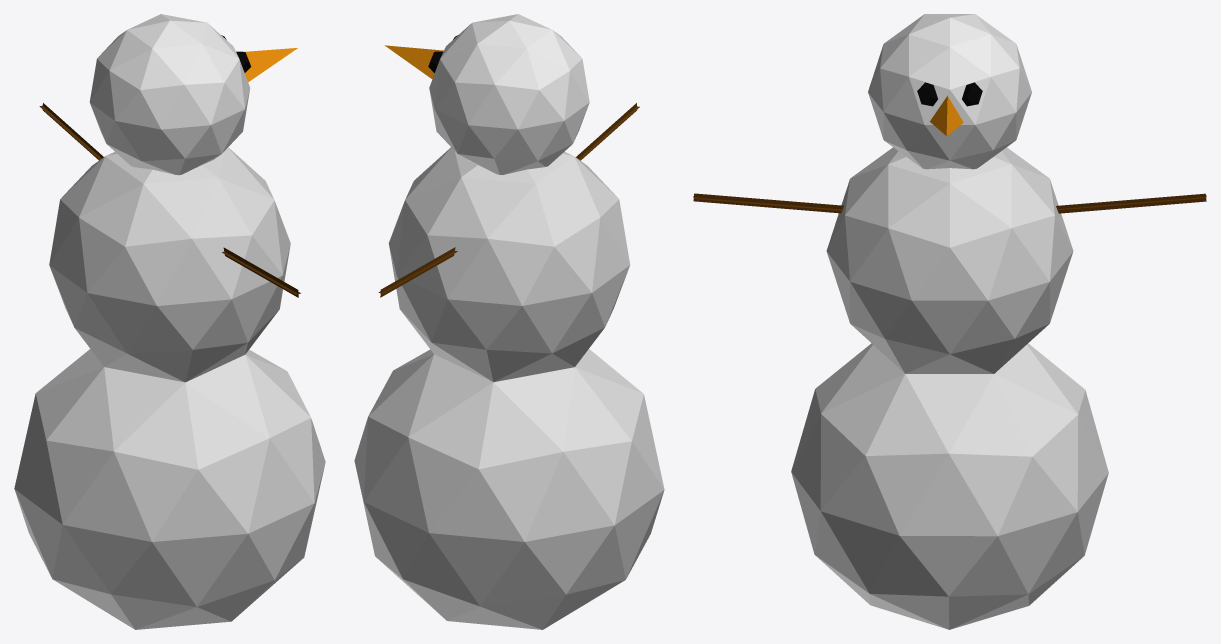
Rendered from snowman.glb.
3 renders of one model, left to right at view 1: azimuth 30°, elevation 25°; view 2: azimuth 150°, elevation 25°; view 3: azimuth 270°, elevation 25°, orthographic.
Parts seen in each view (by area): view 1: snowbody, snowhead; view 2: snowbody, snowhead; view 3: snowbody, snowhead.
Boxes of the visible parts, x1,y1,x2,y2 form: snowbody: [14, 103, 325, 629]; snowhead: [89, 14, 297, 175]; snowbody: [354, 103, 664, 629]; snowhead: [385, 14, 589, 174]; snowbody: [693, 147, 1206, 629]; snowhead: [868, 14, 1031, 169].
Bounding box in the file's own units: 3.69 × 8.04 × 6.25.
